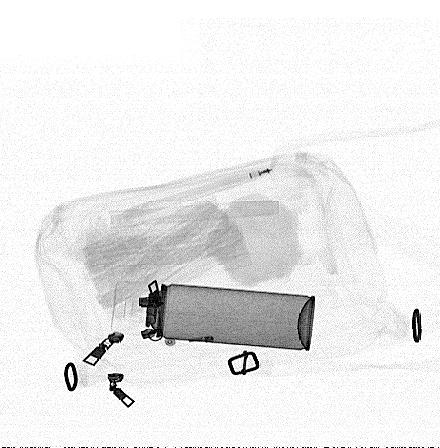Sprayer: (110, 281, 316, 353)
